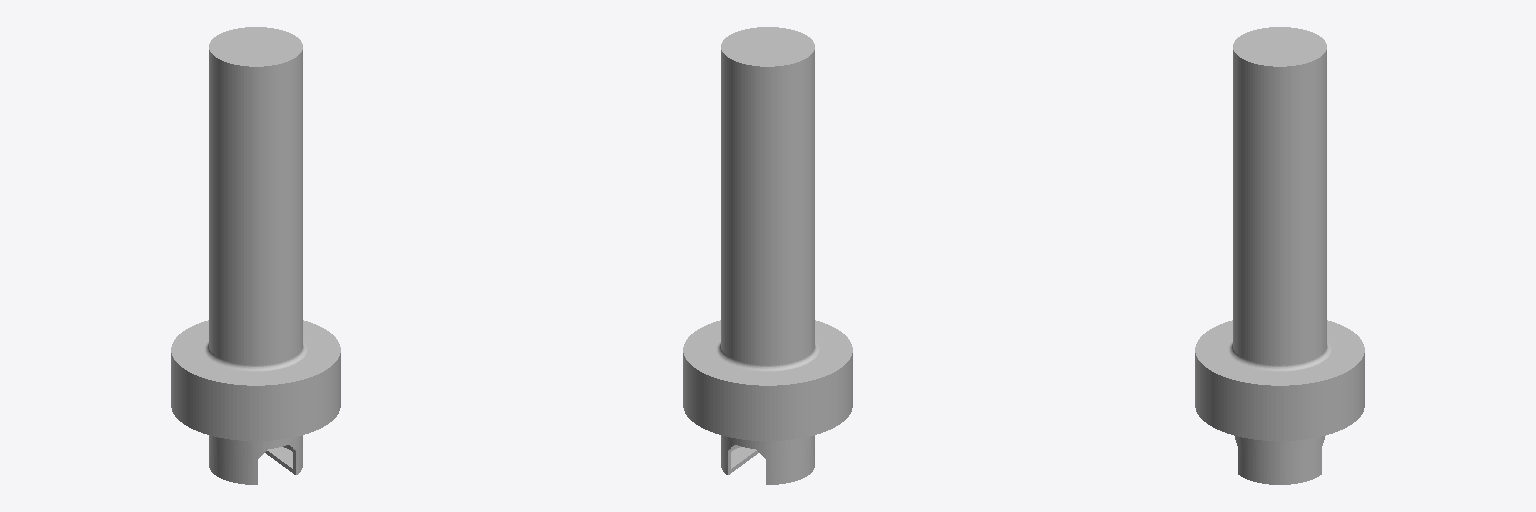
The model's file is Buoy 950400 Green.obj.
3 views of the same model, side by side, from view 1: azimuth 30°, elevation 25°; view 2: azimuth 150°, elevation 25°; view 3: azimuth 270°, elevation 25° (orthographic).
Parts seen in each view (by area): view 1: Buoy_950400_Green; view 2: Buoy_950400_Green; view 3: Buoy_950400_Green.
Part boxes in pixels (x1,y1,x2,y2): Buoy_950400_Green: (171,27,340,484); Buoy_950400_Green: (683,27,852,484); Buoy_950400_Green: (1195,27,1364,484).
Bounding box in the file's own units: 3.72 × 10.12 × 3.72.